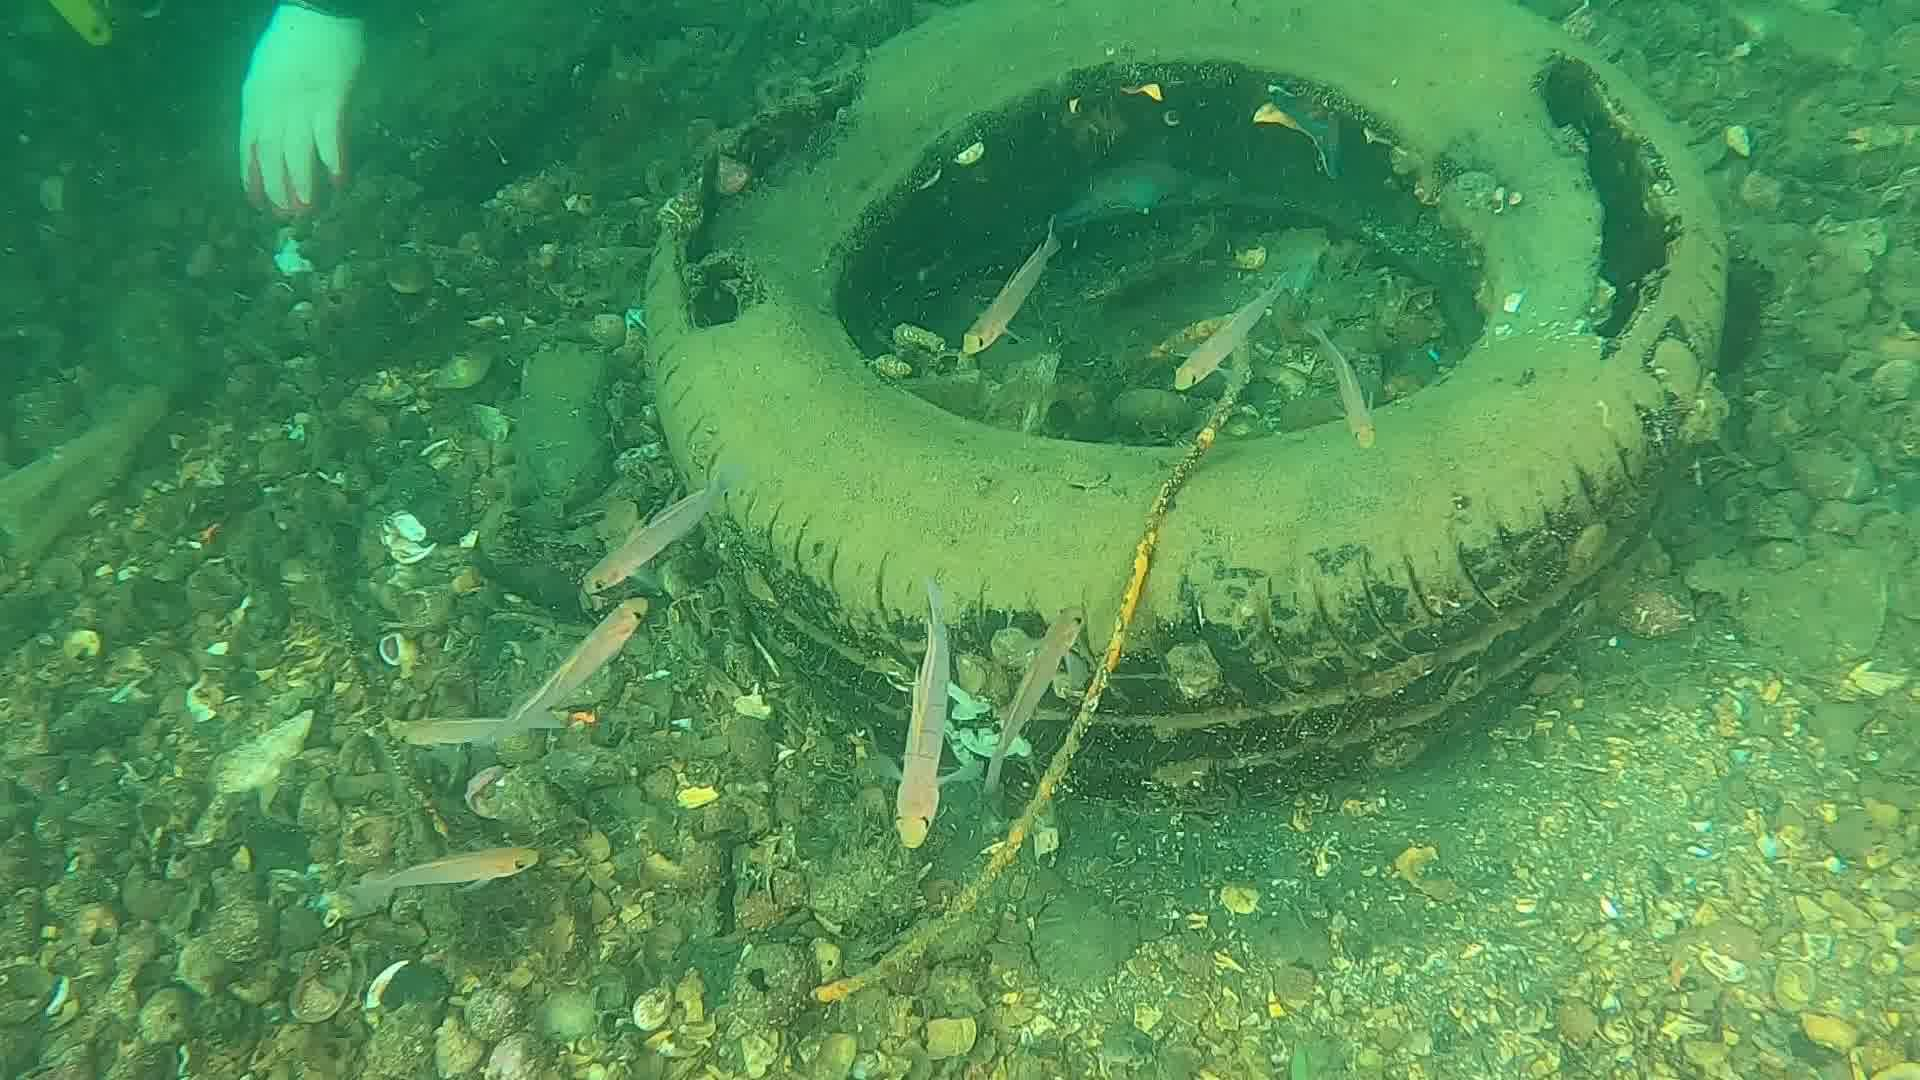tire: (634, 7, 1731, 793)
